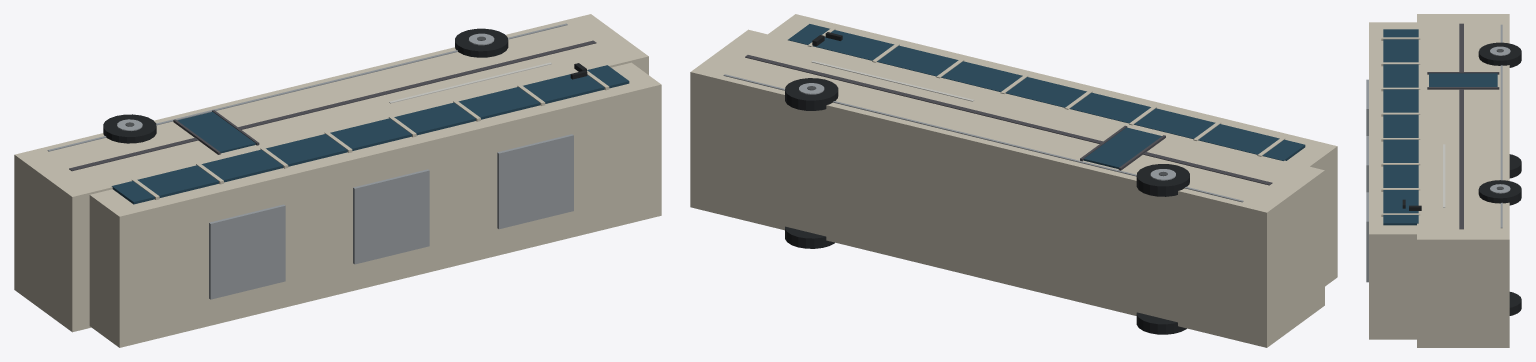
File: RM_Bus_03.glb
3 views of the same model, side by side, from view 1: azimuth 30°, elevation 25°; view 2: azimuth 150°, elevation 25°; view 3: azimuth 270°, elevation 25° (orthographic). The views are drawn at different scales.
Parts seen in each view (by area): view 1: part_001, part_000, part_002, part_038, part_039, part_037, part_013, part_040, part_014, part_024, part_030; view 2: part_000, part_002, part_001, part_013, part_040, part_030, part_024, part_014, part_021, part_027; view 3: part_000, part_001, part_002, part_040, part_013, part_030, part_024, part_014, part_039, part_021, part_027, part_042 (+6 smaller).
Boxes of the visible parts, bbox=[...] form: part_001: bbox=[89, 62, 661, 347]; part_000: bbox=[14, 14, 648, 332]; part_002: bbox=[111, 65, 629, 204]; part_038: bbox=[353, 169, 429, 264]; part_039: bbox=[497, 134, 573, 229]; part_037: bbox=[209, 204, 285, 299]; part_013: bbox=[69, 40, 596, 171]; part_040: bbox=[177, 111, 255, 153]; part_014: bbox=[47, 23, 567, 151]; part_024: bbox=[103, 114, 156, 143]; part_030: bbox=[455, 28, 508, 57]; part_000: bbox=[690, 29, 1324, 347]; part_002: bbox=[788, 24, 1305, 160]; part_001: bbox=[768, 14, 1337, 286]; part_013: bbox=[745, 55, 1272, 185]; part_040: bbox=[1083, 127, 1161, 168]; part_030: bbox=[785, 78, 838, 110]; part_024: bbox=[1136, 164, 1189, 196]; part_014: bbox=[723, 74, 1243, 202]; part_021: bbox=[1136, 312, 1186, 334]; part_027: bbox=[785, 226, 834, 248]; part_000: bbox=[1417, 14, 1509, 347]; part_001: bbox=[1369, 22, 1416, 339]; part_002: bbox=[1383, 29, 1418, 225]; part_040: bbox=[1429, 73, 1497, 86]; part_013: bbox=[1459, 23, 1463, 229]; part_030: bbox=[1478, 180, 1521, 205]; part_024: bbox=[1478, 42, 1521, 67]; part_014: bbox=[1500, 24, 1502, 228]; part_039: bbox=[1366, 192, 1368, 282]; part_021: bbox=[1509, 154, 1521, 178]; part_027: bbox=[1509, 292, 1521, 315]; part_042: bbox=[1427, 87, 1499, 89].
Size of the model in its own units: 11.64 by 2.93 by 3.4.
